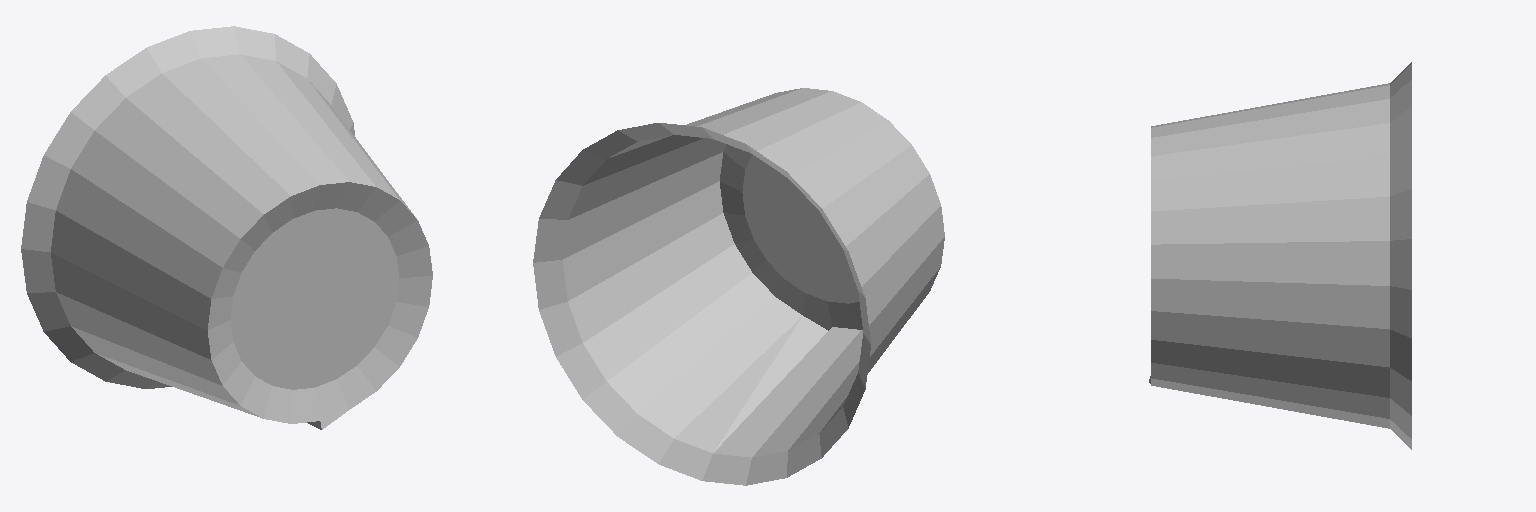
File: original-30.obj
3 renders of one model, left to right at view 1: azimuth 30°, elevation 25°; view 2: azimuth 150°, elevation 25°; view 3: azimuth 270°, elevation 25°, orthographic.
Parts seen in each view (by area): view 1: #ID1314; view 2: #ID1314; view 3: #ID1314.
Part boxes in pixels (x1,y1,x2,y2): #ID1314: (21,26,432,429); #ID1314: (533,88,944,485); #ID1314: (1149,62,1411,449).
Size of the model in its own units: 0.2552 by 0.2552 by 0.172.